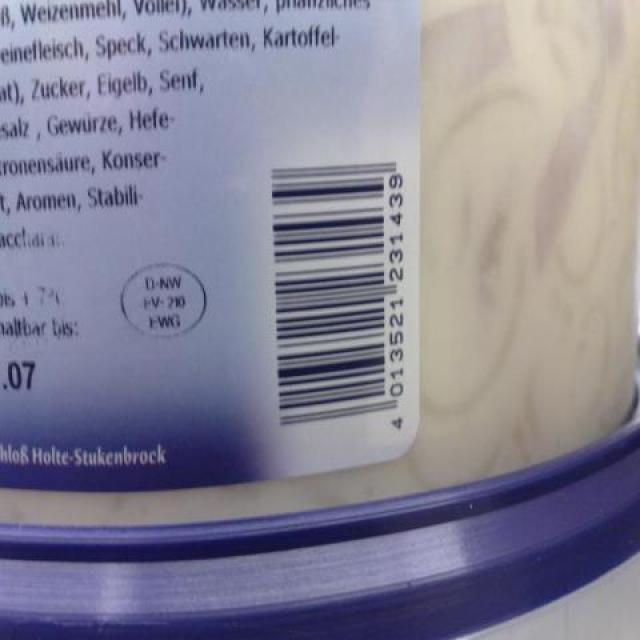Barcode: (260, 145, 415, 444)
